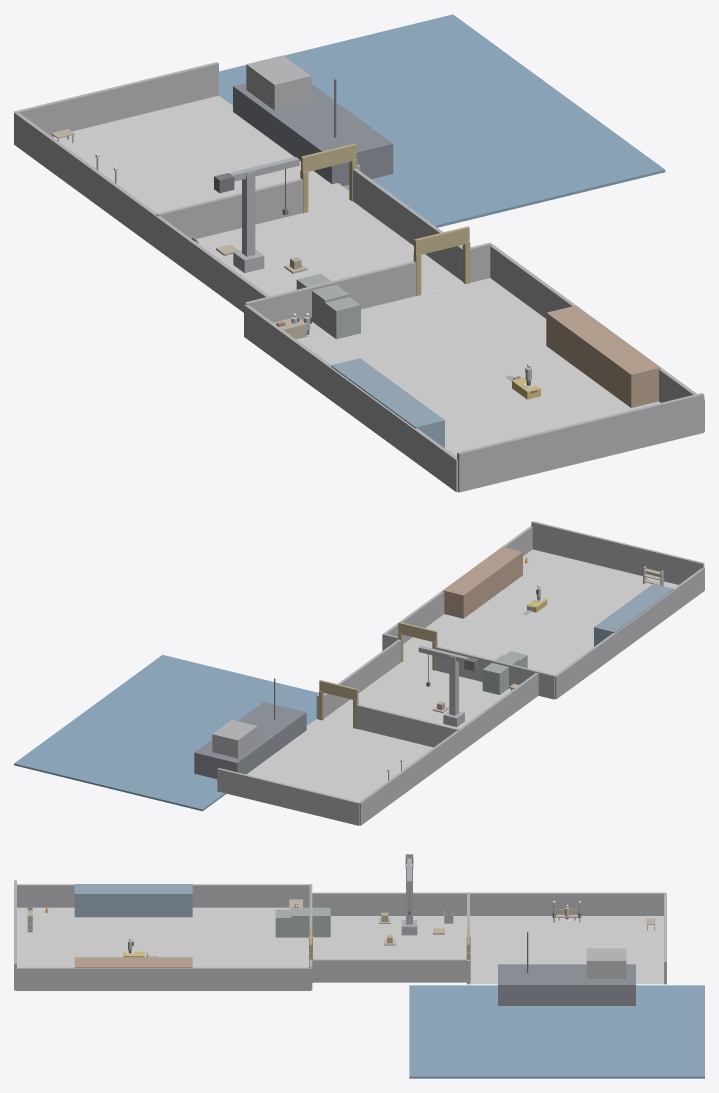
The picture shows the model from 3 angles, top to bottom: view 1: azimuth 30°, elevation 25°; view 2: azimuth 150°, elevation 25°; view 3: azimuth 270°, elevation 25°; orthographic projection. The views are drawn at different scales.
Visible parts, largest first — view 1: water, lot_floor, quay_floor, base_floor, lot_wall_S, lot_wall_W, ship_hull, quay_wall_N, container_R, quay_wall_W, base_wall_Na, base_wall_Sa (+10 smaller); view 2: water, lot_floor, quay_floor, base_floor, lot_wall_S, lot_wall_W, ship_hull, quay_wall_N, container_R, quay_wall_W, base_wall_Na, base_wall_W (+9 smaller); view 3: water, lot_floor, quay_floor, lot_wall_E, base_floor, ship_hull, quay_wall_W, lot_wall_W, container_L, base_wall_E, base_wall_W, container_R (+3 smaller).
Boxes of the visible parts, box(x1,y1,x2,y2) form: water: box(219, 14, 665, 227); lot_floor: box(296, 278, 660, 456); quay_floor: box(52, 95, 350, 213); base_floor: box(196, 200, 463, 296); lot_wall_S: box(457, 393, 704, 492); lot_wall_W: box(244, 304, 457, 492); ship_hull: box(233, 83, 393, 185); quay_wall_N: box(14, 62, 218, 136); container_R: box(546, 305, 660, 407); quay_wall_W: box(14, 112, 156, 247); base_wall_Na: box(156, 178, 302, 238); base_wall_Sa: box(269, 261, 415, 322); water: box(14, 655, 318, 811); lot_floor: box(403, 549, 677, 674); quay_floor: box(246, 719, 433, 801); base_floor: box(323, 662, 510, 728); lot_wall_S: box(531, 521, 704, 584); lot_wall_W: box(555, 568, 704, 699); ship_hull: box(194, 702, 306, 778); quay_wall_N: box(217, 768, 359, 825); container_R: box(443, 547, 522, 618); quay_wall_W: box(359, 730, 459, 825); base_wall_Na: box(356, 704, 459, 747); base_wall_W: box(459, 673, 538, 752); water: box(409, 985, 704, 1078); lot_floor: box(17, 907, 308, 967); quay_floor: box(470, 916, 663, 984); lot_wall_E: box(15, 967, 310, 990); base_floor: box(313, 916, 466, 959); ship_hull: box(498, 964, 635, 1005); quay_wall_W: box(470, 892, 665, 915); lot_wall_W: box(17, 884, 309, 907); container_L: box(74, 884, 192, 917); base_wall_E: box(313, 959, 466, 982); base_wall_W: box(312, 892, 466, 915); container_R: box(74, 957, 192, 967).
Size of the model in its own units: 40.15 by 8.1 by 70.15.
